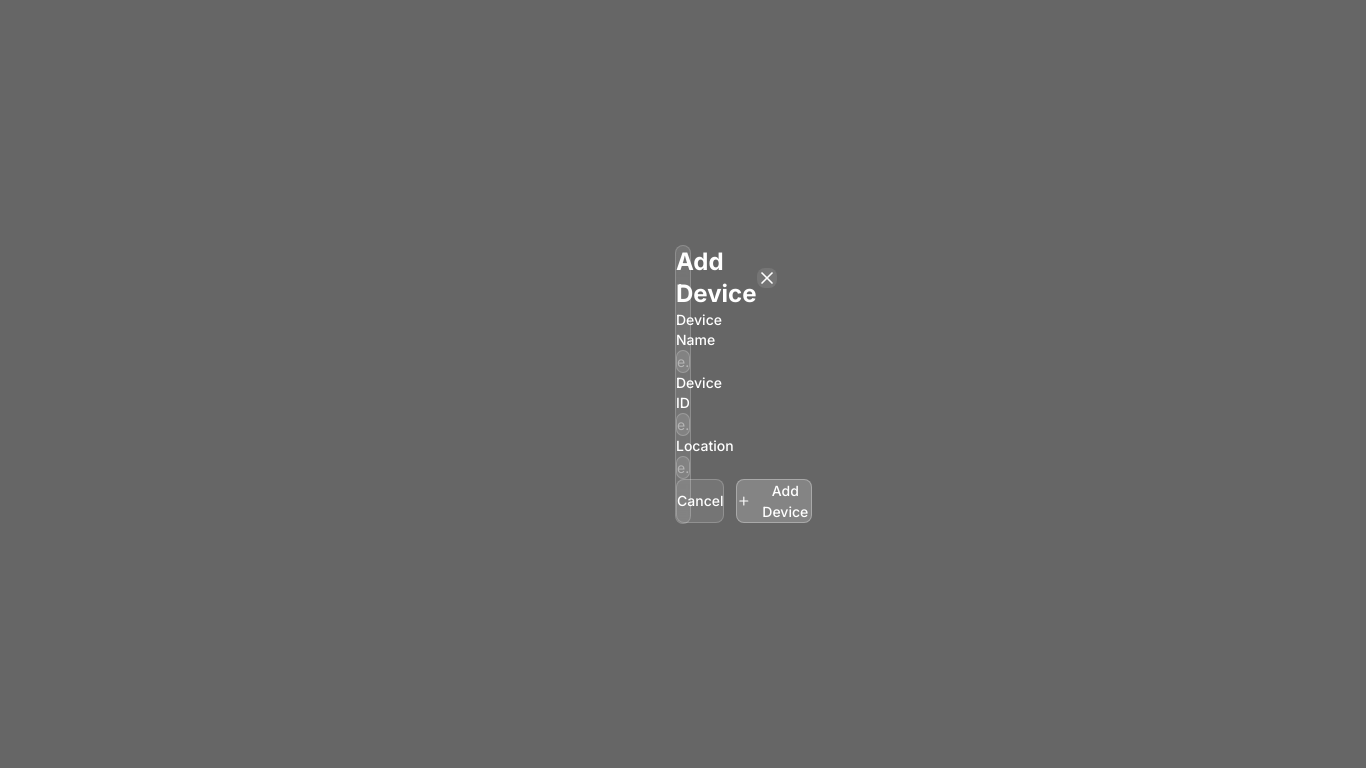
Scenario: AddDeviceModal › Form Validation › should show error when device name is empty
This screenshot has width=1366, height=768.
Click the button with test id "submit-button" at {"x": 774, "y": 500}, box [736,478,812,522]
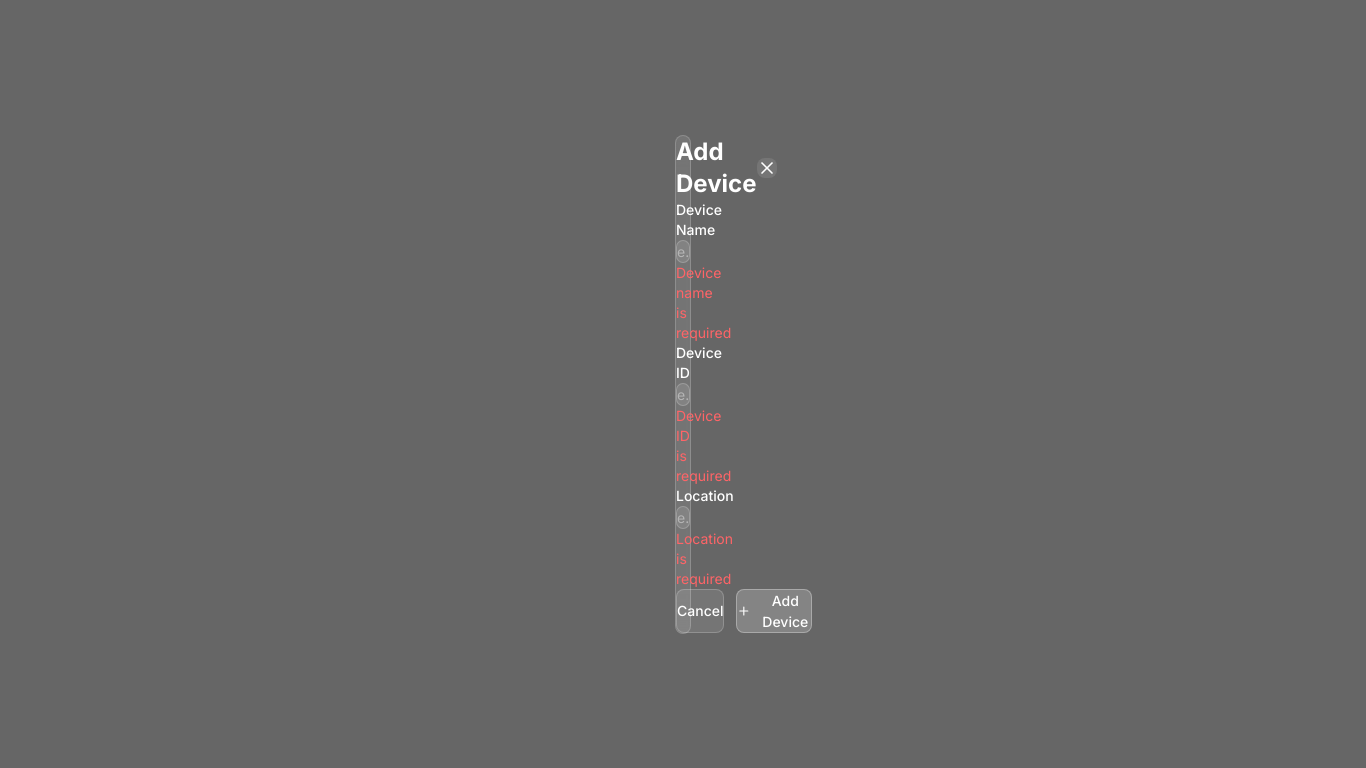
Expected: the text with test id "name-error" reads "Device name is required", [676,264,731,340]
